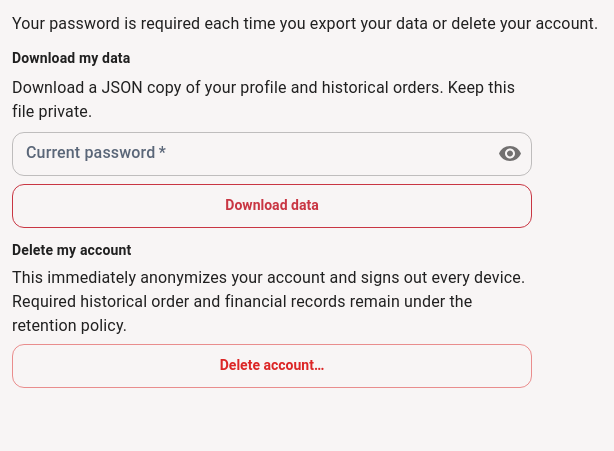
Test: customer privacy entry points › sends export password only in a protected POST and reports rejection
The image size is (614, 451).
Type "wrong" into the password field labelled "Current password *". click: (247, 154)
box: [12,134,482,174]
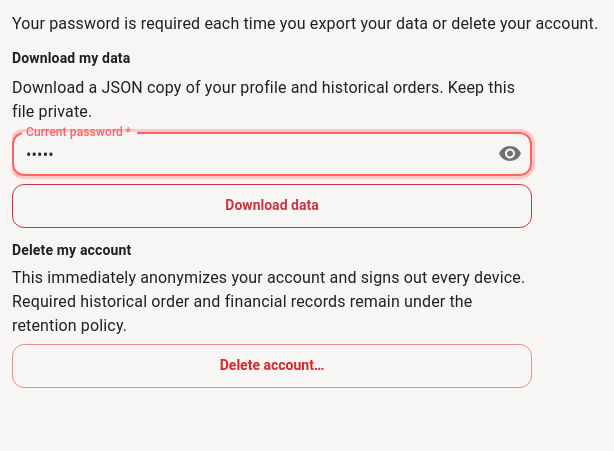
Click the button "Download data". click: (272, 206)
box: [12,184,532,228]
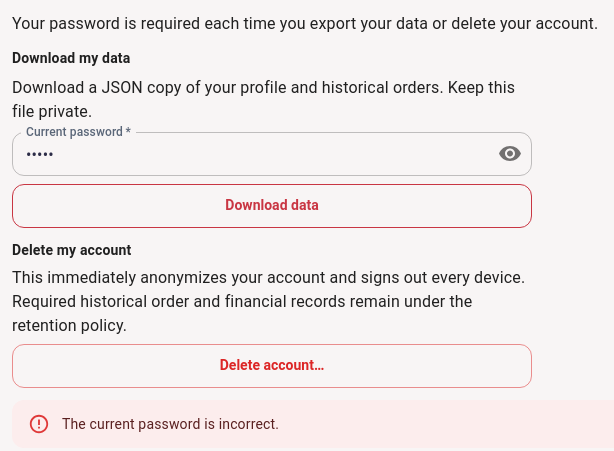
Expected: the text "The current password is incorrect." is shown, [62,416,279,432]
